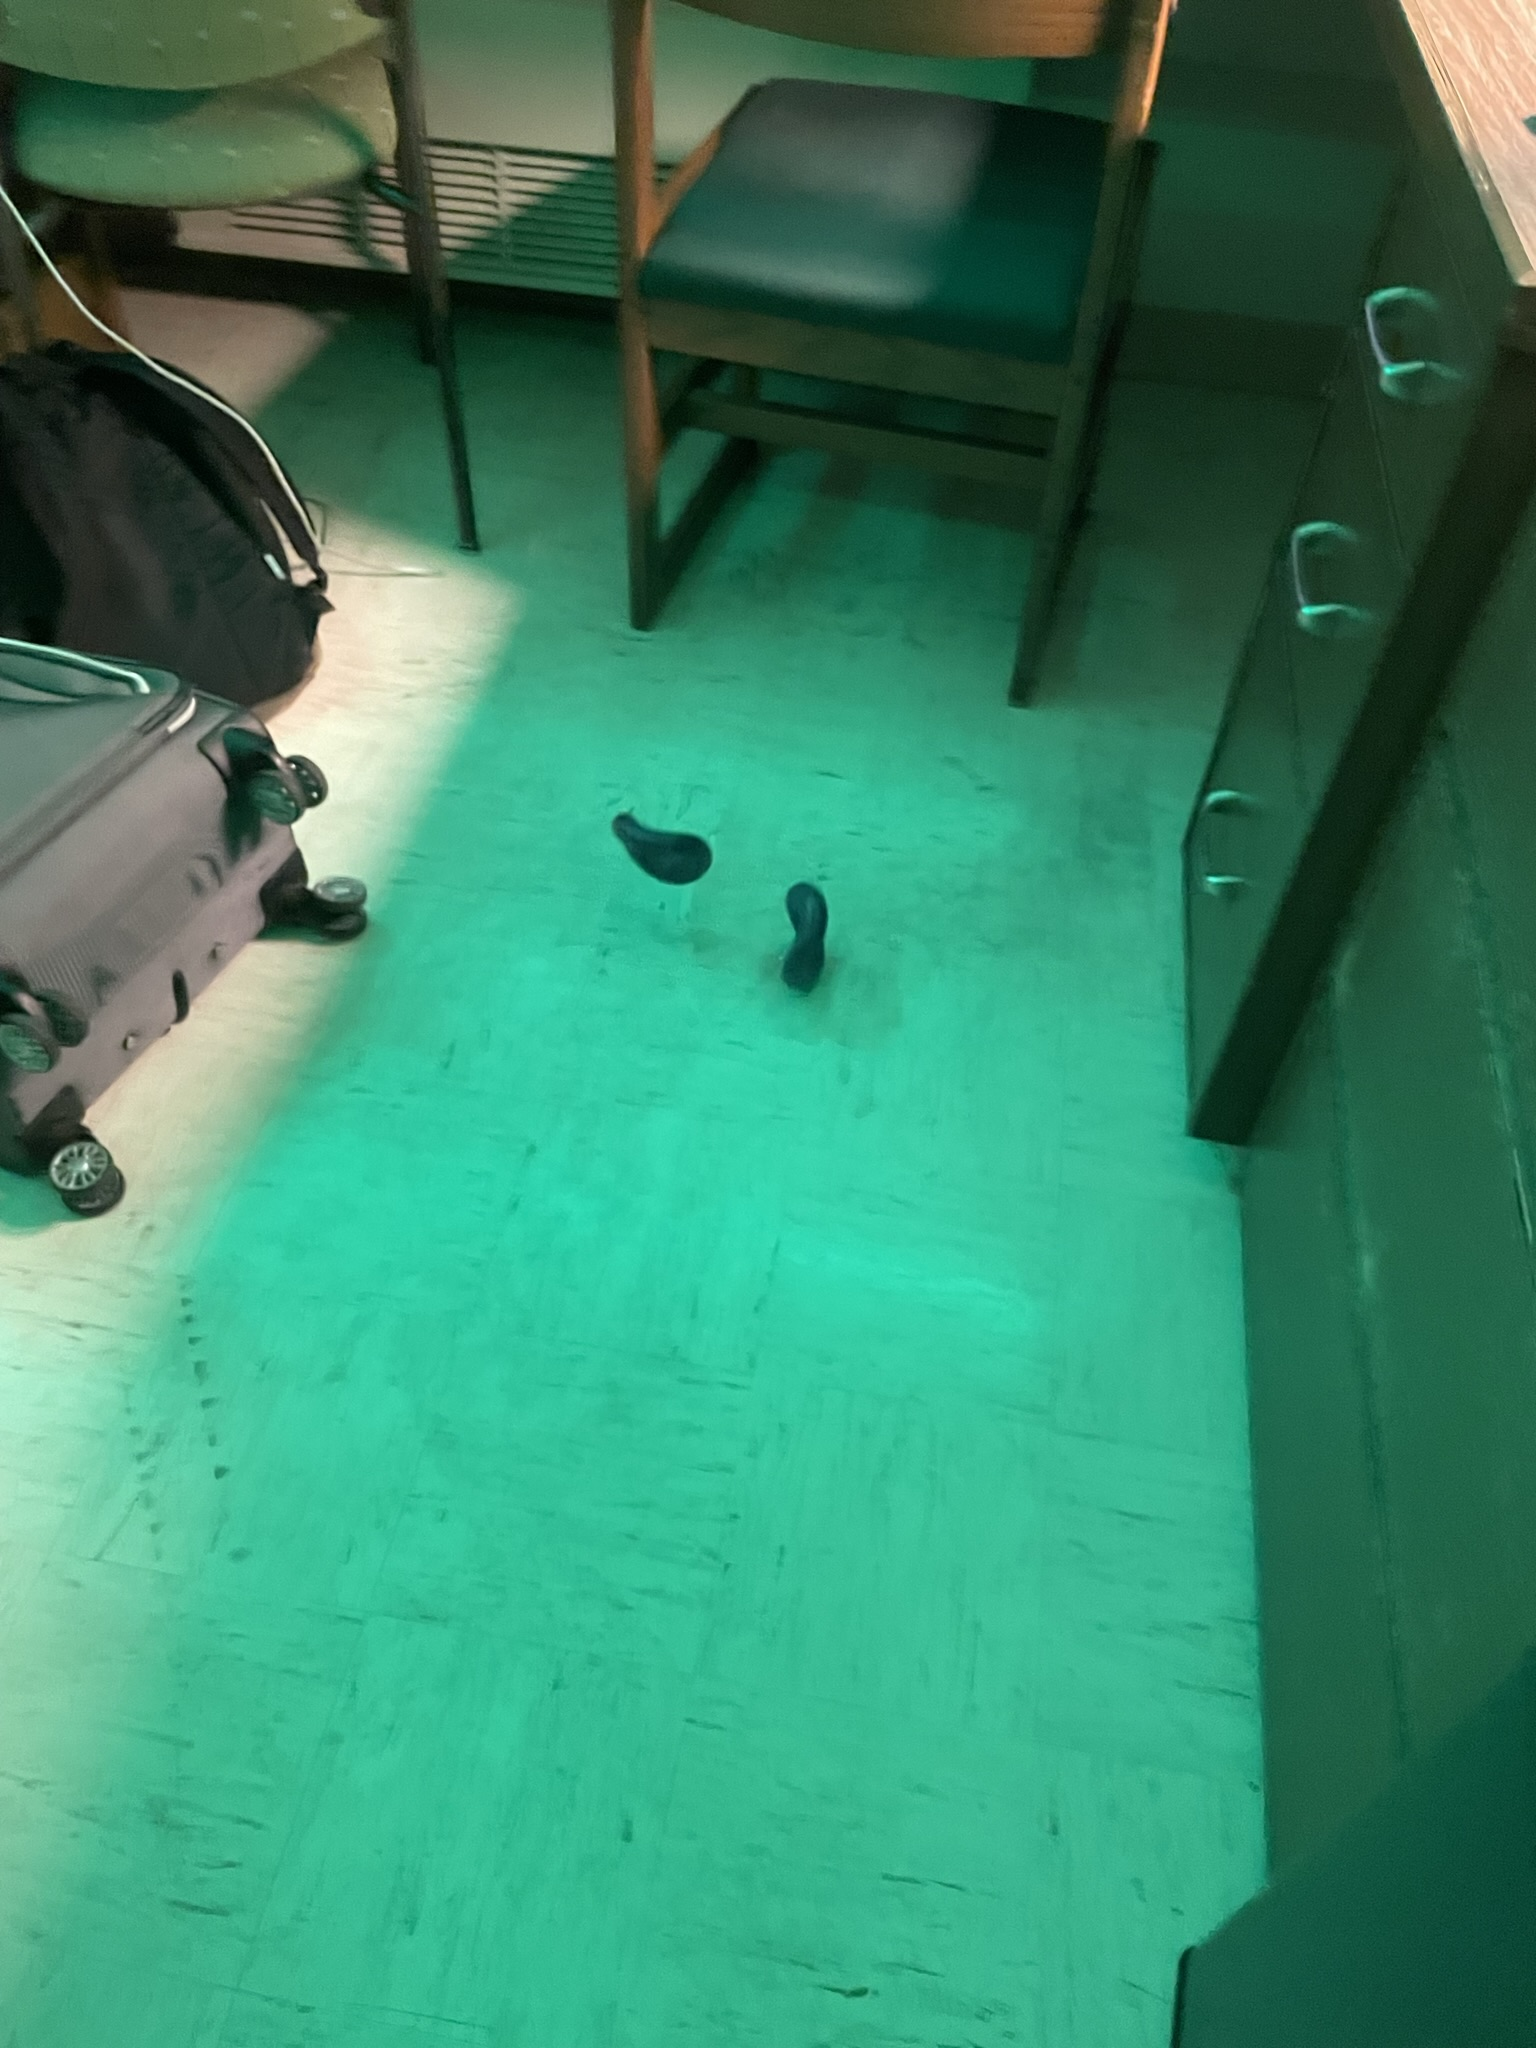ring: (608, 810, 713, 885), (778, 879, 829, 997)
